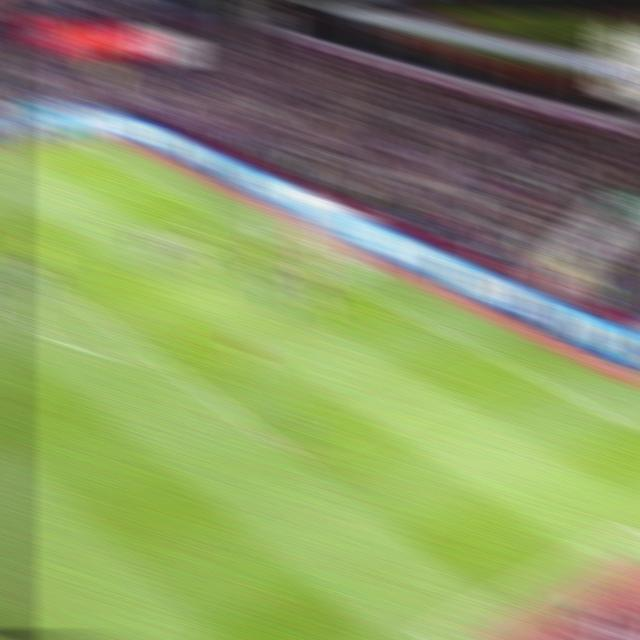bigarea_bottom_inner: (277, 443, 307, 462)
bigarea_bottom_outter: (497, 356, 525, 374)
bigarea_top_outter: (137, 175, 163, 189)
bottom_arc_area_intersection: (141, 347, 173, 370)
corner: (52, 133, 81, 146)
smallarea_bottom_inner: (310, 311, 338, 332)
smallarea_bottom_outter: (370, 291, 400, 310)
smallarea_top_inner: (152, 227, 180, 242)
smallarea_top_outter: (212, 213, 238, 229)
top_arc_area_intersection: (21, 263, 47, 279)
